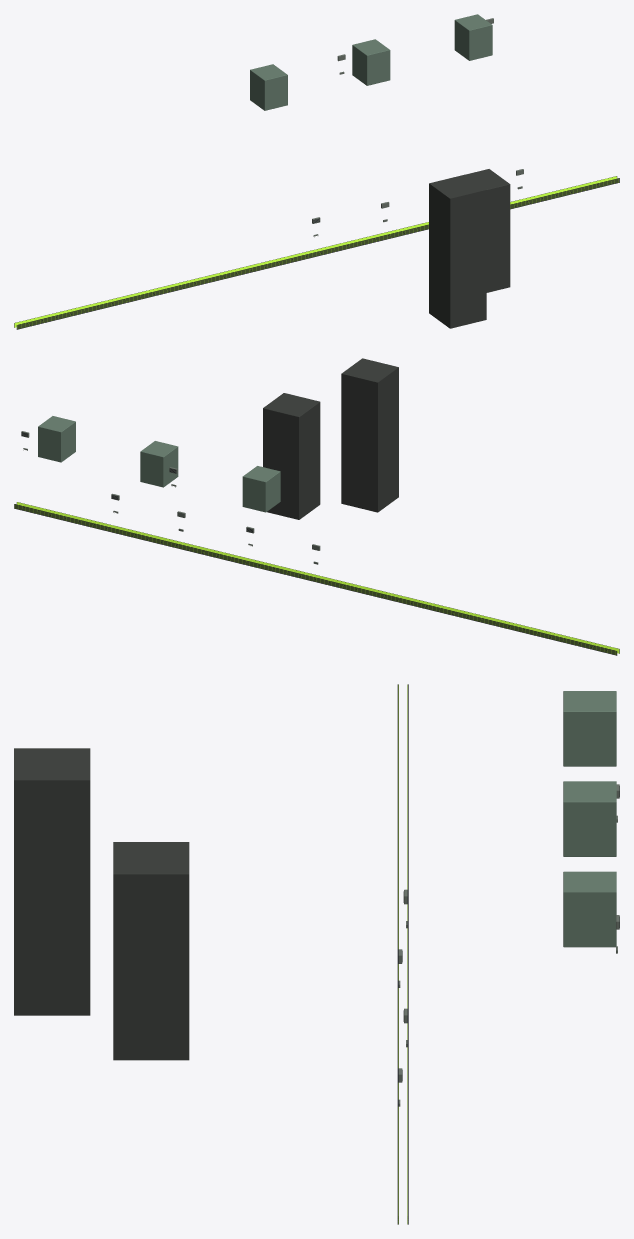
3 views of the same model, one above another, from view 1: azimuth 30°, elevation 25°; view 2: azimuth 150°, elevation 25°; view 3: azimuth 270°, elevation 25° (orthographic). The views are drawn at different scales.
Parts seen in each view (by area): view 1: p0_m4; view 2: p0_m4; view 3: p0_m4.
Part boxes in pixels (x1,y1,x2,y2): p0_m4: (14, 14, 619, 329); p0_m4: (14, 358, 619, 655); p0_m4: (14, 684, 619, 1224).
Bounding box in the file's own units: 82.5 × 19 × 39.71.
